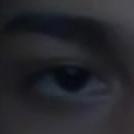open: (5, 51, 123, 106)
